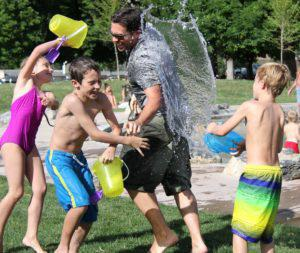Person: (103, 6, 219, 253), (43, 55, 151, 253), (205, 54, 299, 252), (2, 11, 67, 253)
